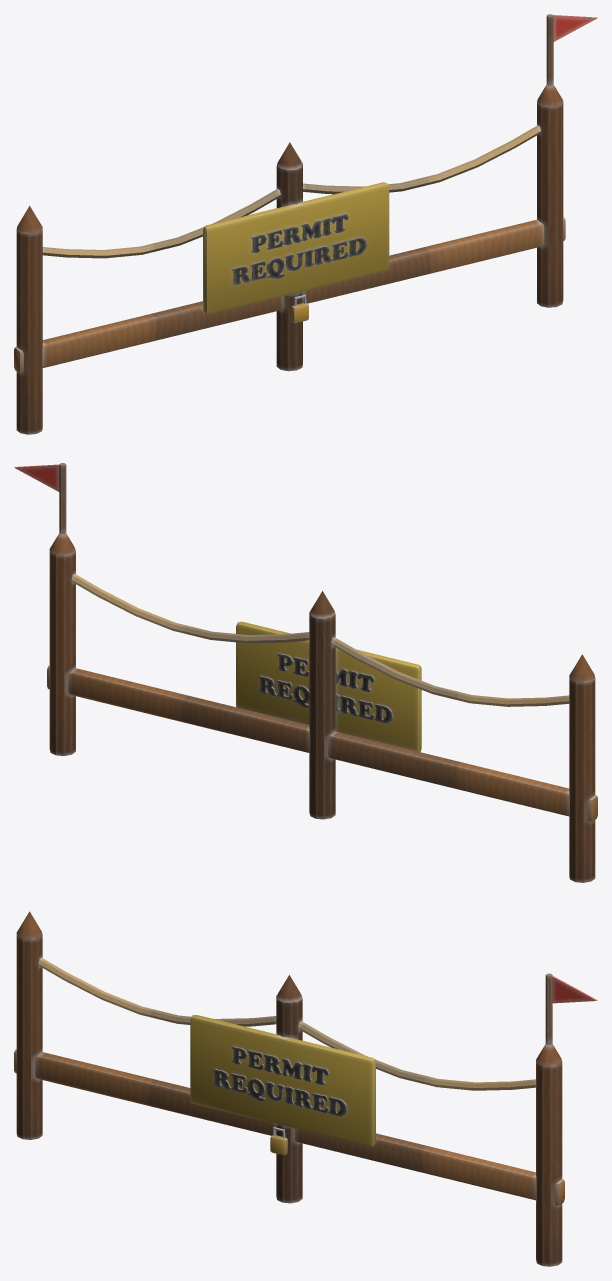
File: fence_barrier.glb
The picture shows the model from 3 angles, top to bottom: view 1: azimuth 30°, elevation 25°; view 2: azimuth 150°, elevation 25°; view 3: azimuth 330°, elevation 25°; orthographic projection.
Visible parts, largest first — view 1: SM_FenceBarrier; view 2: SM_FenceBarrier; view 3: SM_FenceBarrier.
Part boxes in pixels (x1,y1,x2,y2): SM_FenceBarrier: (14,14,597,434); SM_FenceBarrier: (14,463,597,882); SM_FenceBarrier: (14,911,597,1266).
Size of what is drawn, in the model's own units: 4.25 by 2 by 0.24.
Materials: 1 (1 with a texture image).
